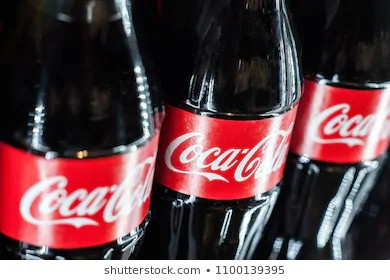coke-glass-bottle: (152, 1, 313, 260)
